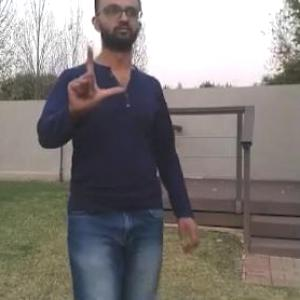land_hand: (65, 42, 125, 117)
